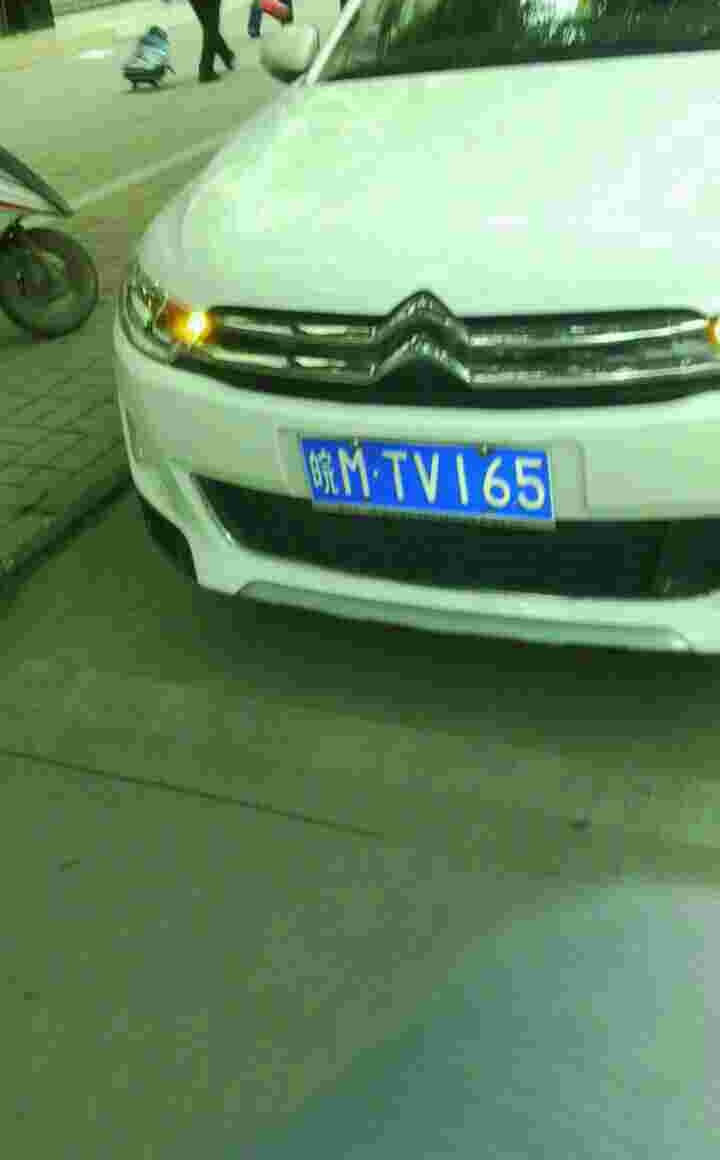license_plate: (294, 442, 554, 527)
